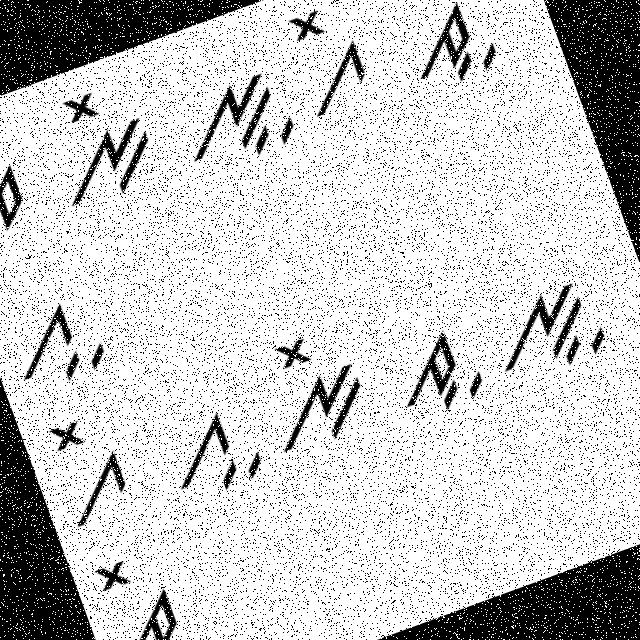gah: (0, 273, 124, 401), (149, 396, 273, 516)
go: (36, 402, 142, 540), (275, 0, 382, 125)
ngah: (164, 56, 310, 190), (478, 265, 620, 396)
ngo: (243, 311, 384, 460), (32, 71, 170, 215)
tah: (377, 310, 494, 432), (387, 0, 508, 105)
to: (81, 541, 194, 639), (0, 114, 39, 251)
